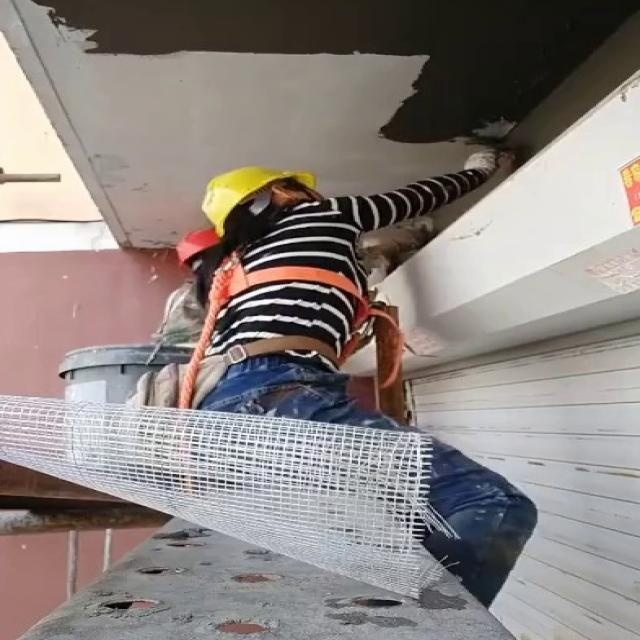Arnes_seguridad: (192, 211, 393, 362)
